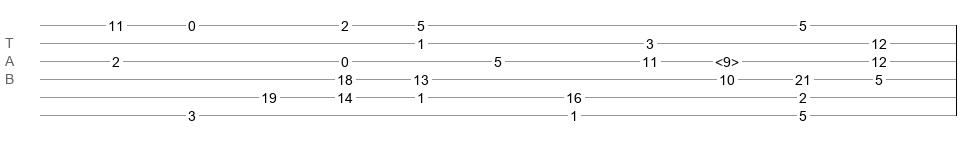0: (188, 18, 196, 28), (341, 54, 349, 64)
1: (417, 90, 425, 100), (417, 36, 425, 46), (570, 108, 578, 118)
10: (719, 72, 735, 82)
11: (108, 18, 124, 28), (642, 54, 658, 64)
12: (871, 54, 887, 64), (871, 36, 887, 46)
13: (413, 72, 429, 82)
14: (337, 90, 353, 100)
16: (566, 90, 582, 100)
18: (337, 72, 353, 82)
19: (261, 90, 277, 100)
2: (112, 54, 120, 64), (341, 18, 349, 28), (799, 90, 807, 100)
21: (795, 72, 811, 82)
3: (188, 108, 196, 118), (646, 36, 654, 46)
5: (417, 18, 425, 28), (494, 54, 502, 64), (799, 18, 807, 28), (799, 108, 807, 118), (875, 72, 883, 82)
harmonic: (715, 54, 739, 64)
